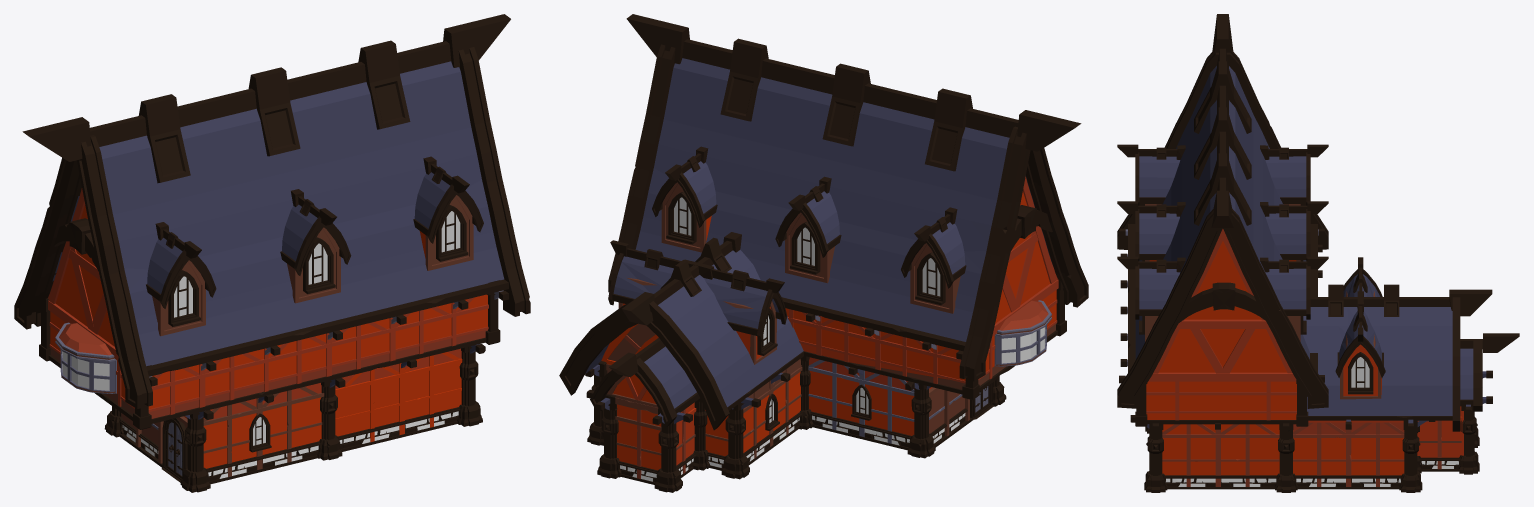
File: SFFA_Building_Empty.fbx
3 views of the same model, side by side, from view 1: azimuth 30°, elevation 25°; view 2: azimuth 150°, elevation 25°; view 3: azimuth 270°, elevation 25° (orthographic). The views are drawn at different scales.
Parts seen in each view (by area): view 1: SFFA_Building_Empty; view 2: SFFA_Building_Empty; view 3: SFFA_Building_Empty.
Part boxes in pixels (x1,y1,x2,y2): SFFA_Building_Empty: [14, 14, 530, 492]; SFFA_Building_Empty: [559, 14, 1088, 492]; SFFA_Building_Empty: [1117, 14, 1519, 492].
Size of the model in its own units: 2234 by 1585 by 1881.
